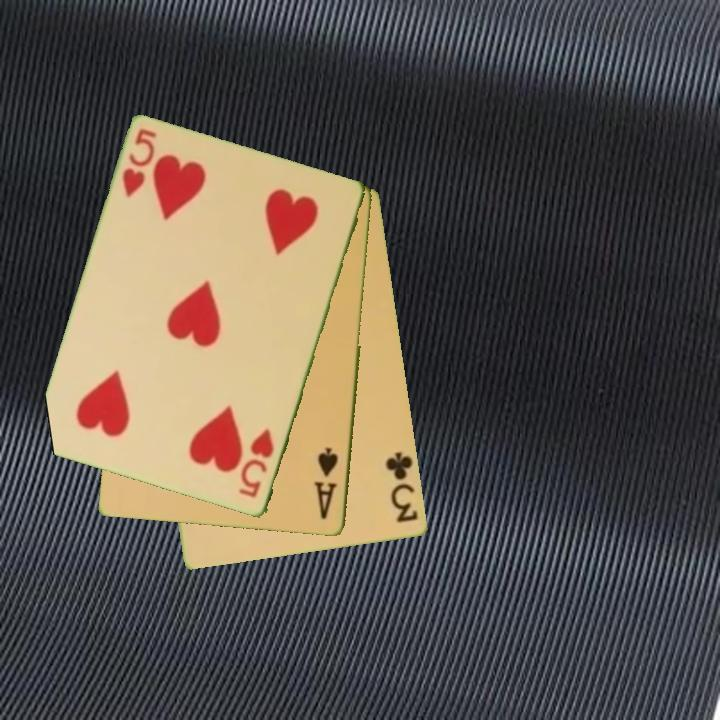3c: (382, 448, 422, 526)
5h: (235, 425, 277, 501), (119, 125, 160, 201)
As: (311, 444, 342, 523)
